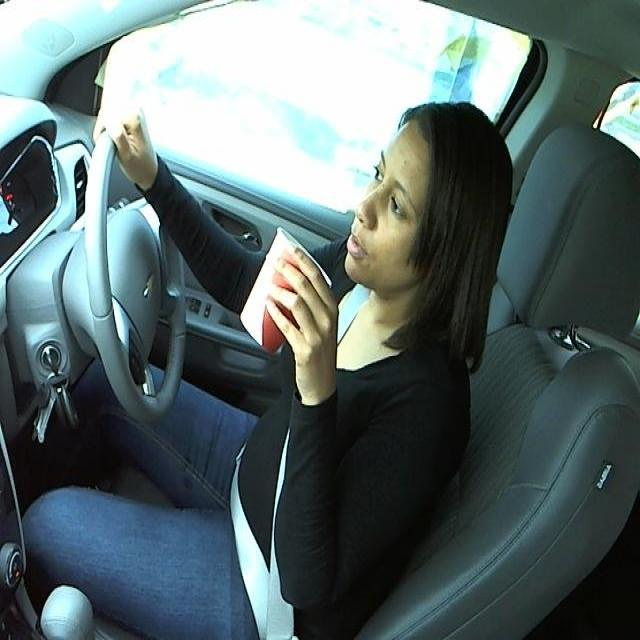drinking: (237, 222, 331, 354)
